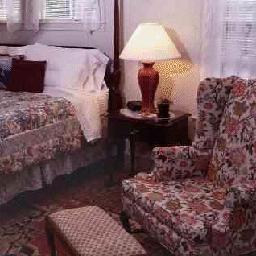Cama: (3, 45, 113, 202)
